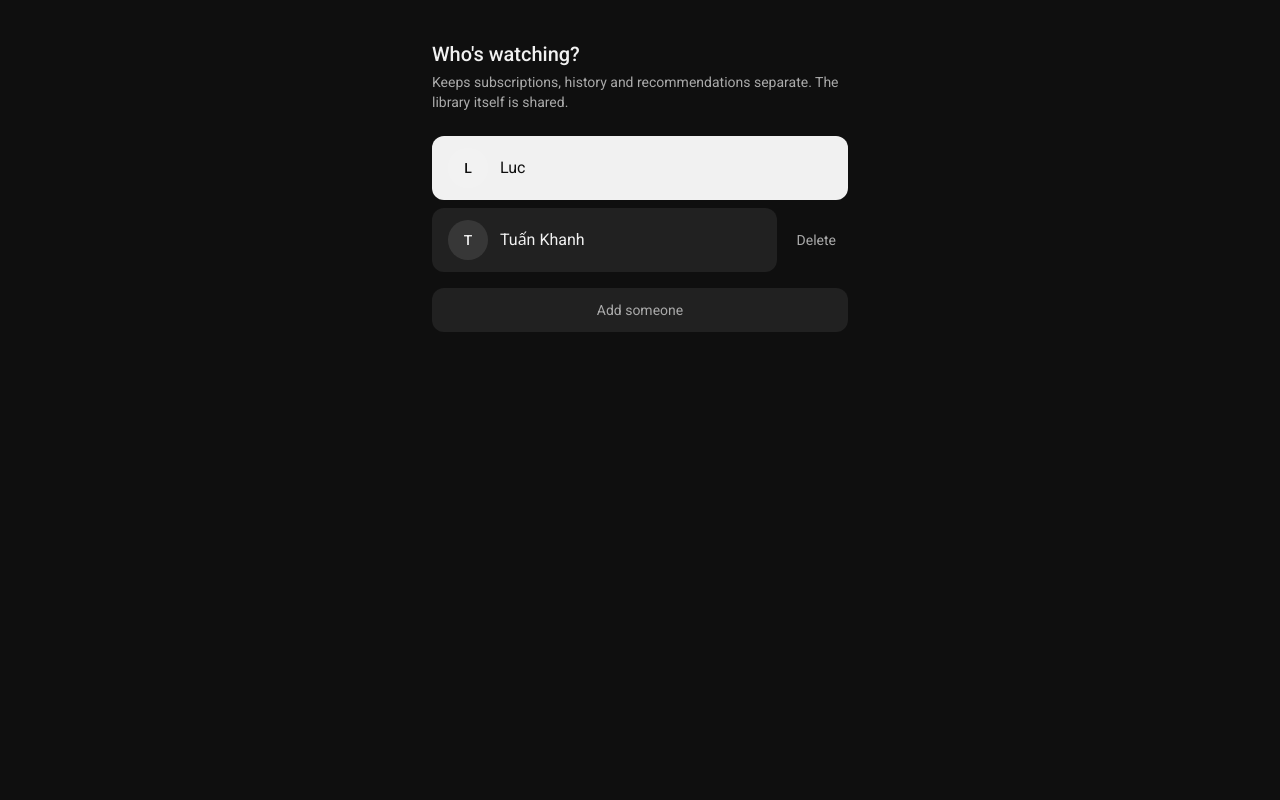
deleting a profile › says what it will take before it takes it
This screenshot has width=1280, height=800.
Click the button with aria-label "Delete Tuấn Khanh": (816, 240) [784,222,848,258]
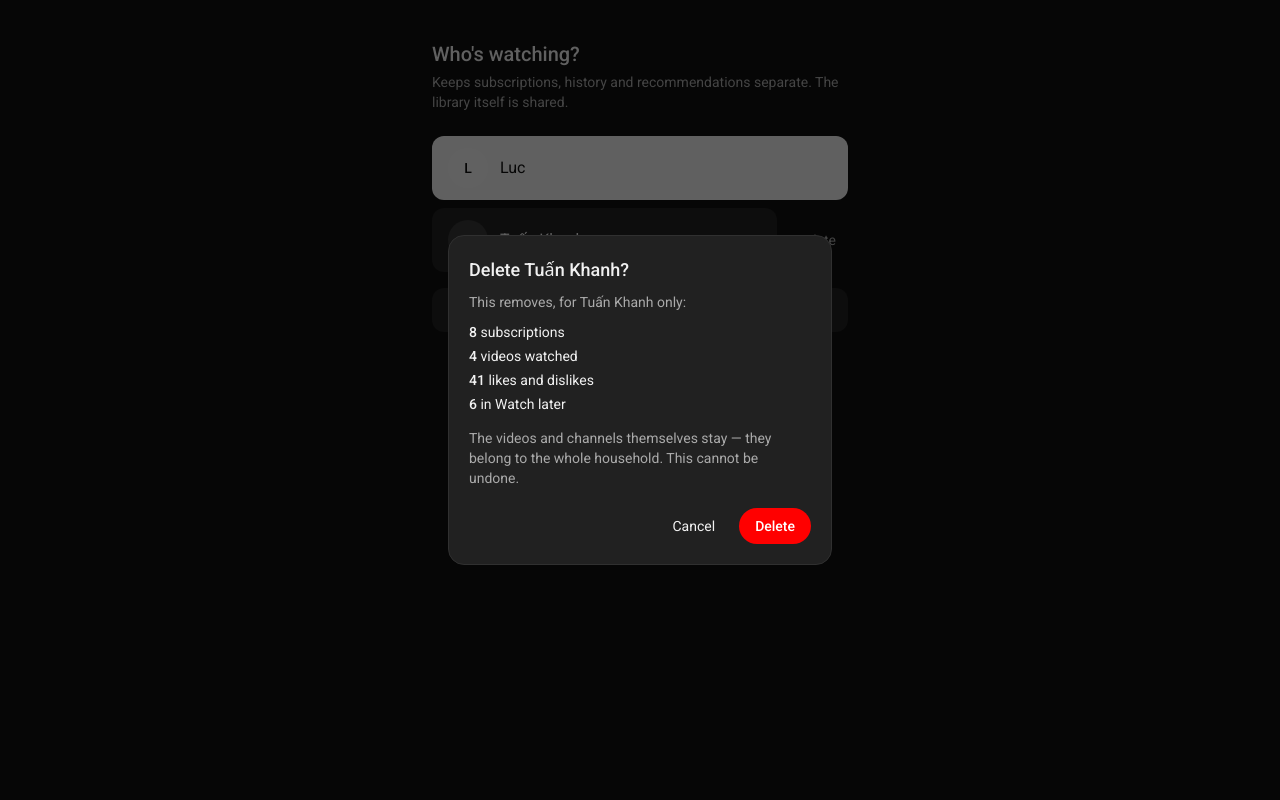
expect the text "8" is shown: met, box [469,324,477,340]
expect the list item "subscriptions" is shown: met, box [480,324,565,340]
expect the text "41" is shown: met, box [469,372,485,388]
